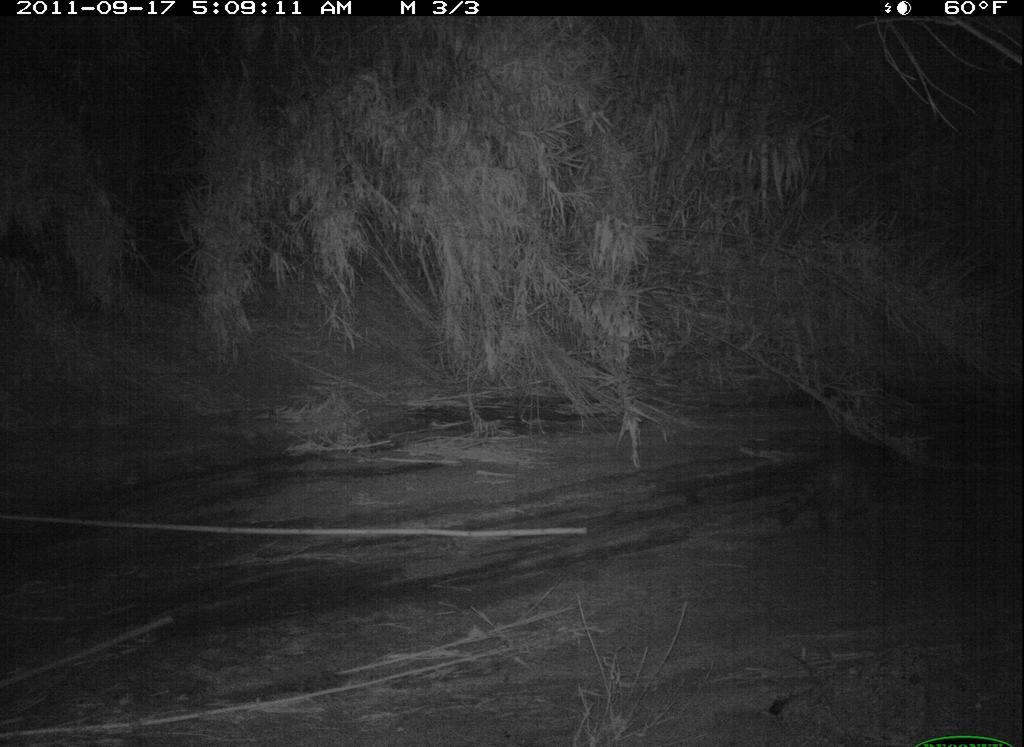raccoon: (766, 443, 893, 541)
